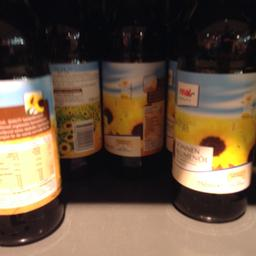oil: (169, 3, 255, 224), (0, 1, 65, 247), (97, 2, 168, 172), (40, 1, 101, 169)
